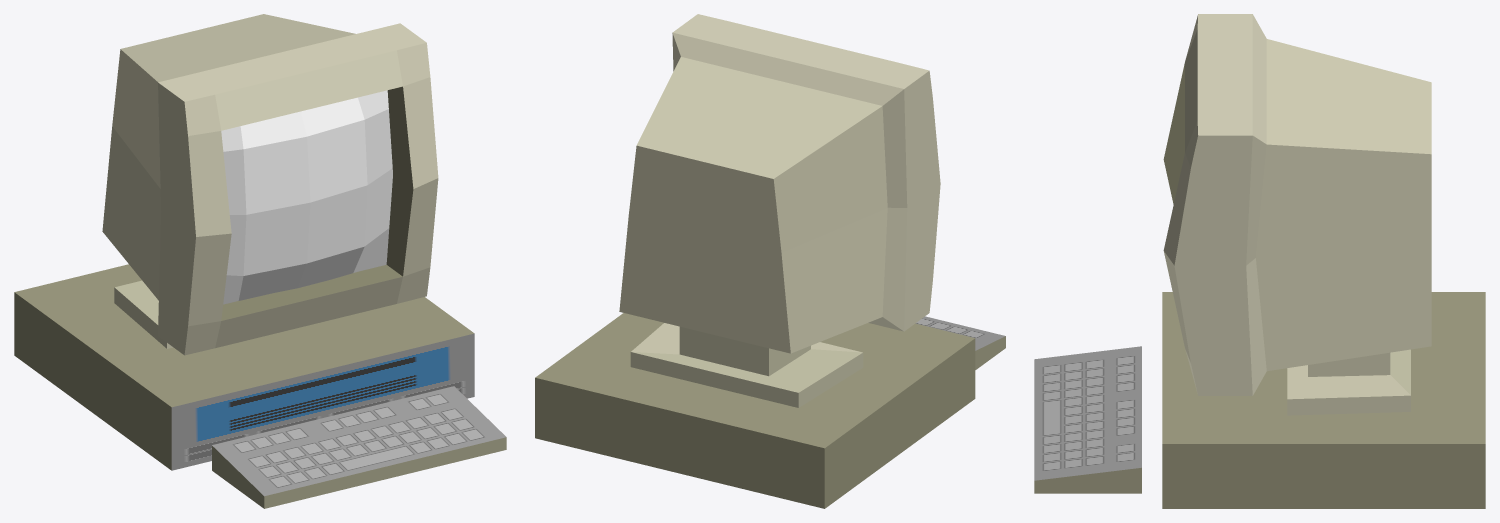
File: screening_computer.glb
3 renders of one model, left to right at view 1: azimuth 30°, elevation 25°; view 2: azimuth 150°, elevation 25°; view 3: azimuth 270°, elevation 25°, orthographic. The views are drawn at different scales.
Parts seen in each view (by area): view 1: Chassis, Tower, Screen, Keyboard; view 2: Chassis, Tower, Keyboard; view 3: Chassis, Tower, Keyboard.
Part boxes in pixels (box(x1,y1,x2,y2)): Chassis: box(102, 14, 438, 355); Tower: box(14, 264, 474, 470); Screen: box(221, 90, 392, 304); Keyboard: box(212, 386, 506, 508); Chassis: box(619, 14, 940, 407); Tower: box(535, 313, 975, 508); Keyboard: box(915, 316, 1005, 369); Chassis: box(1163, 14, 1431, 415); Tower: box(1162, 292, 1485, 508); Keyboard: box(1034, 346, 1141, 493).
Size of the model in its own units: 2.5 by 2.75 by 3.14.
2 materials, 1 textured.
